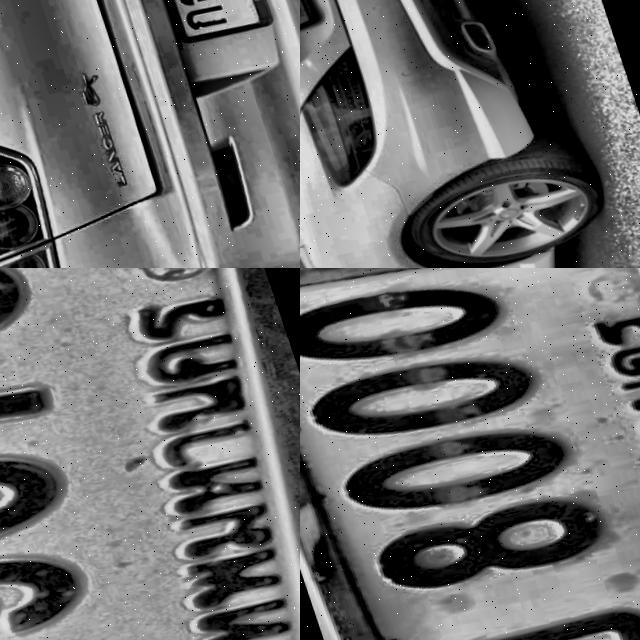license-plate: (300, 268, 640, 640), (0, 268, 300, 640), (120, 0, 272, 45)
